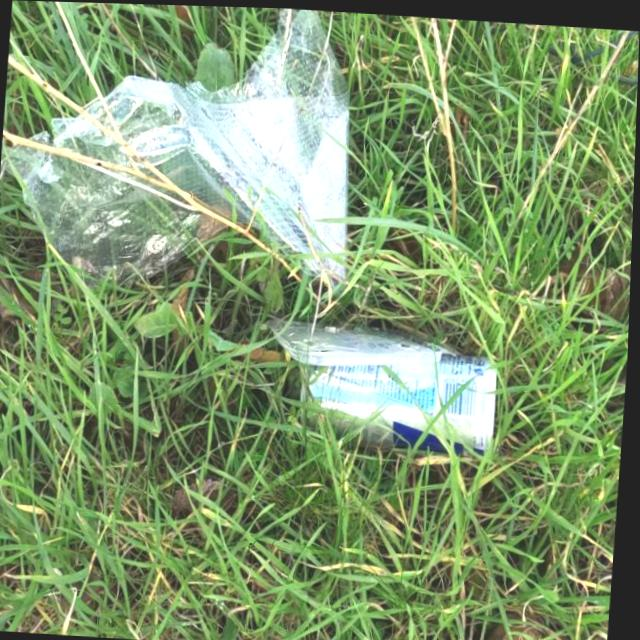Can-Metal: (293, 321, 508, 449)
